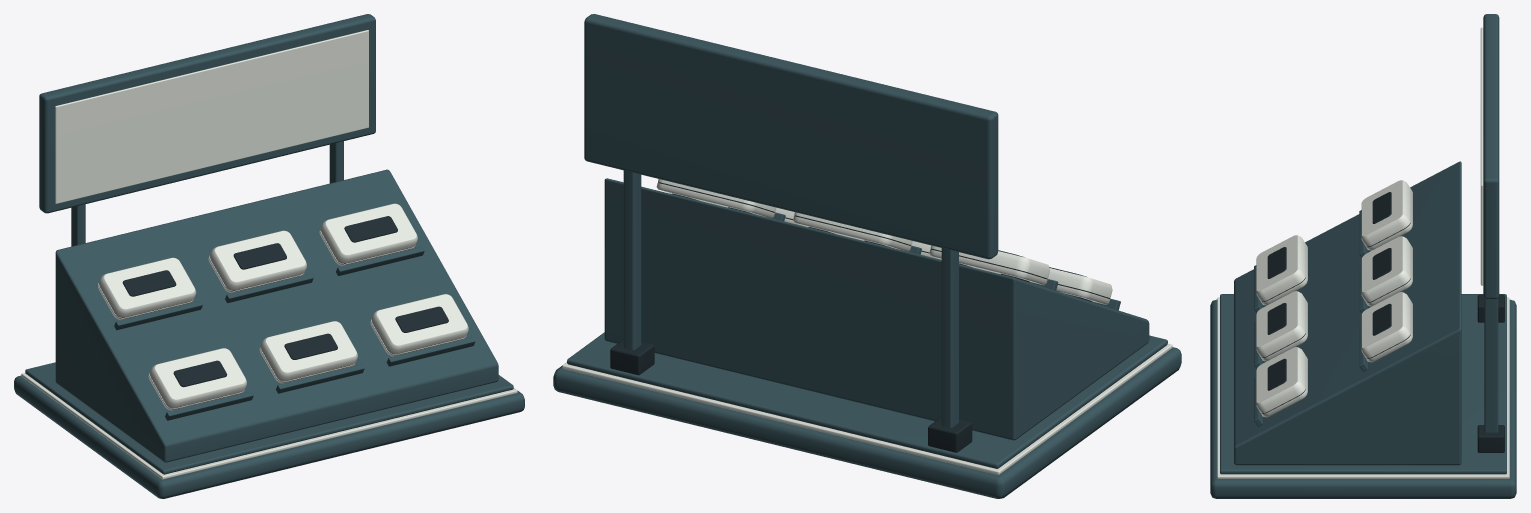
3 renders of one model, left to right at view 1: azimuth 30°, elevation 25°; view 2: azimuth 150°, elevation 25°; view 3: azimuth 270°, elevation 25°, orthographic. The views are drawn at different scales.
Visible parts, largest first — view 1: MESH_SatinPetrolStand, MESH_WarmIvoryPolymer, MESH_BlankSmokeWindowandPads; view 2: MESH_SatinPetrolStand, MESH_WarmIvoryPolymer, MESH_BlankSmokeWindowandPads; view 3: MESH_SatinPetrolStand, MESH_WarmIvoryPolymer, MESH_BlankSmokeWindowandPads.
Part boxes in pixels (bbox=[...]): MESH_SatinPetrolStand: bbox=[14, 14, 524, 498]; MESH_WarmIvoryPolymer: bbox=[21, 30, 517, 479]; MESH_BlankSmokeWindowandPads: bbox=[116, 216, 452, 408]; MESH_SatinPetrolStand: bbox=[553, 14, 1181, 498]; MESH_WarmIvoryPolymer: bbox=[562, 179, 1172, 474]; MESH_BlankSmokeWindowandPads: bbox=[610, 182, 1109, 452]; MESH_SatinPetrolStand: bbox=[1210, 14, 1516, 498]; MESH_WarmIvoryPolymer: bbox=[1217, 27, 1509, 478]; MESH_BlankSmokeWindowandPads: bbox=[1262, 192, 1504, 452].
Size of the model in its own units: 0.5 by 0.4 by 0.35.
